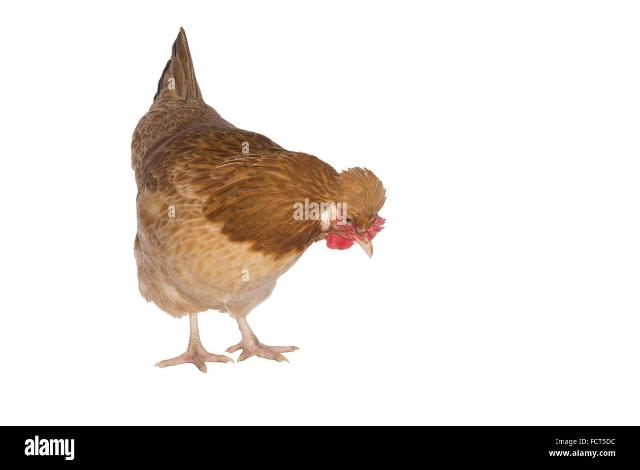Chicken: (129, 24, 386, 374)
